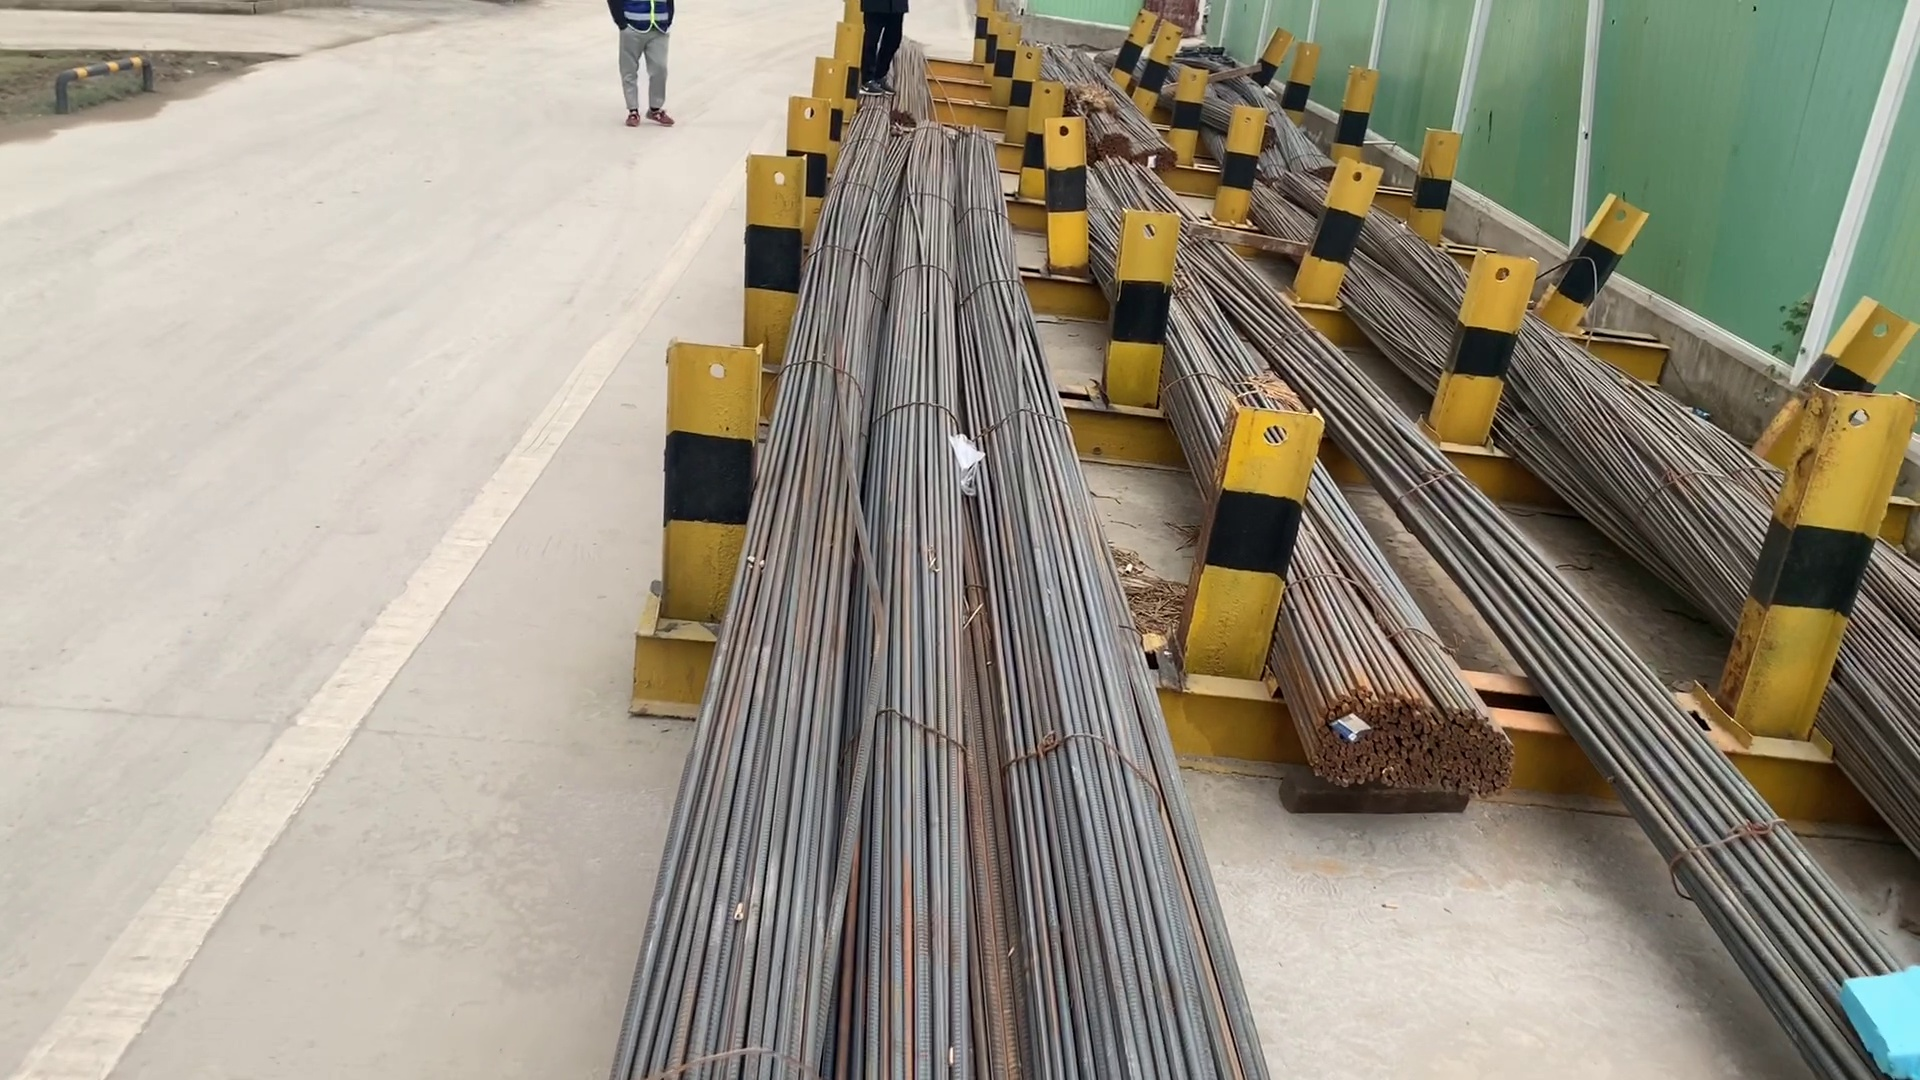rebar: (1323, 666, 1516, 802), (1088, 129, 1134, 166), (1137, 138, 1180, 171), (885, 100, 922, 127)
